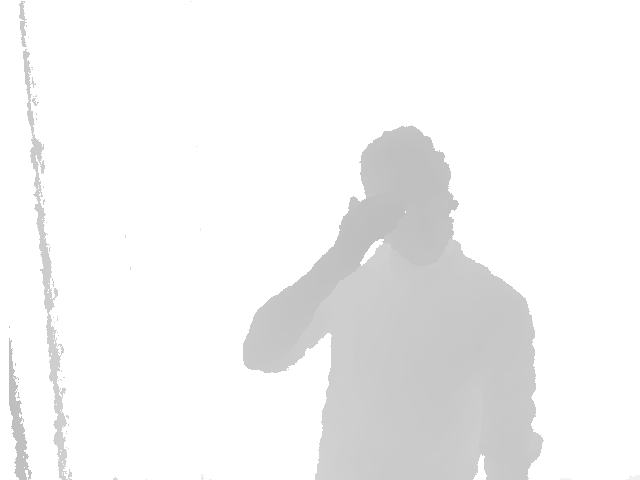head: (359, 126, 458, 267)
person: (241, 125, 545, 480)
